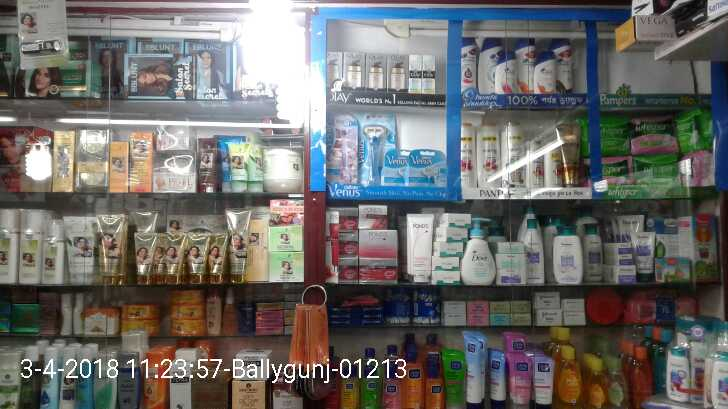venus: (326, 111, 358, 183), (359, 114, 386, 184), (412, 149, 446, 186), (387, 149, 410, 183)
